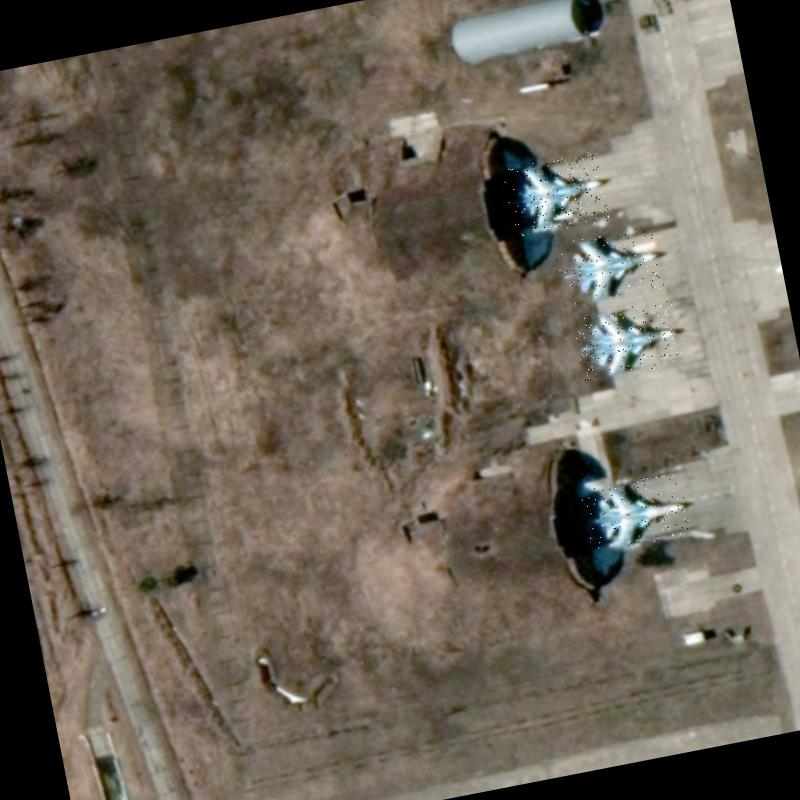A19: (501, 150, 610, 238), (553, 224, 665, 308), (572, 298, 684, 382), (579, 470, 691, 553)
